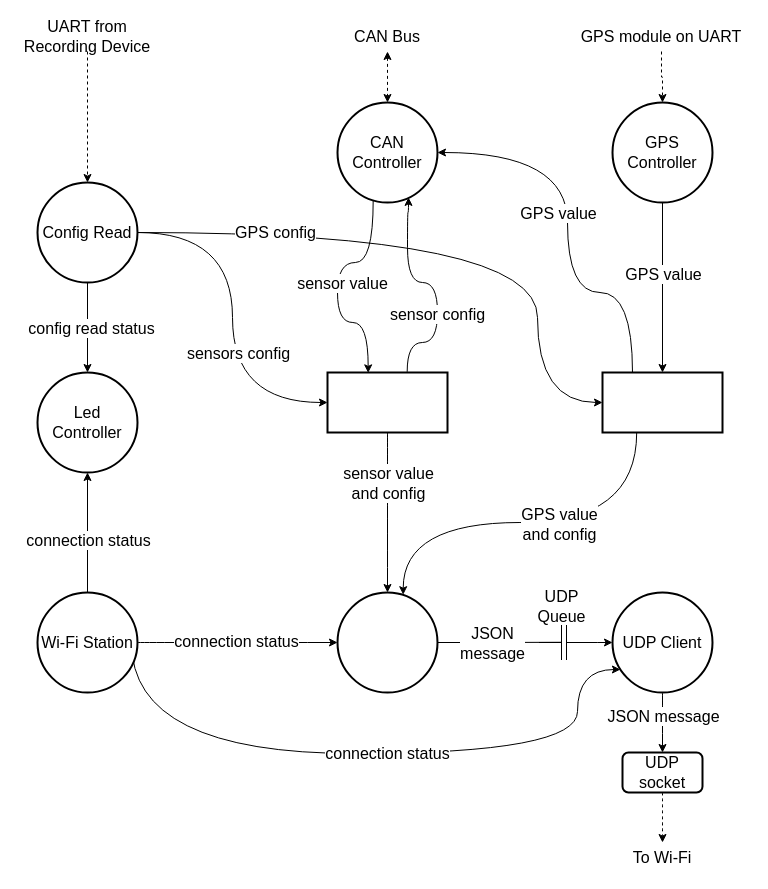
The diagram is 768 pixels wide and 889 high, and some of its shapes have lost their labels. Here are the shapes that lost their labels. From the top down, the centre of each, then its label:
At point 387,402: "Sensor Buffer".
At point 662,402: "GPS Buffer".
At point 387,642: "Data Sender".
